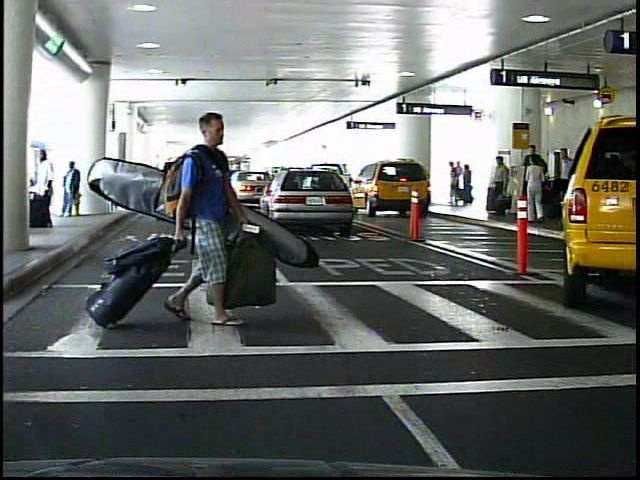person: (172, 103, 258, 348), (27, 148, 57, 232), (523, 143, 544, 218), (61, 157, 85, 221), (526, 155, 547, 224), (489, 157, 511, 220), (446, 160, 460, 208), (452, 161, 464, 208), (462, 162, 473, 206)
